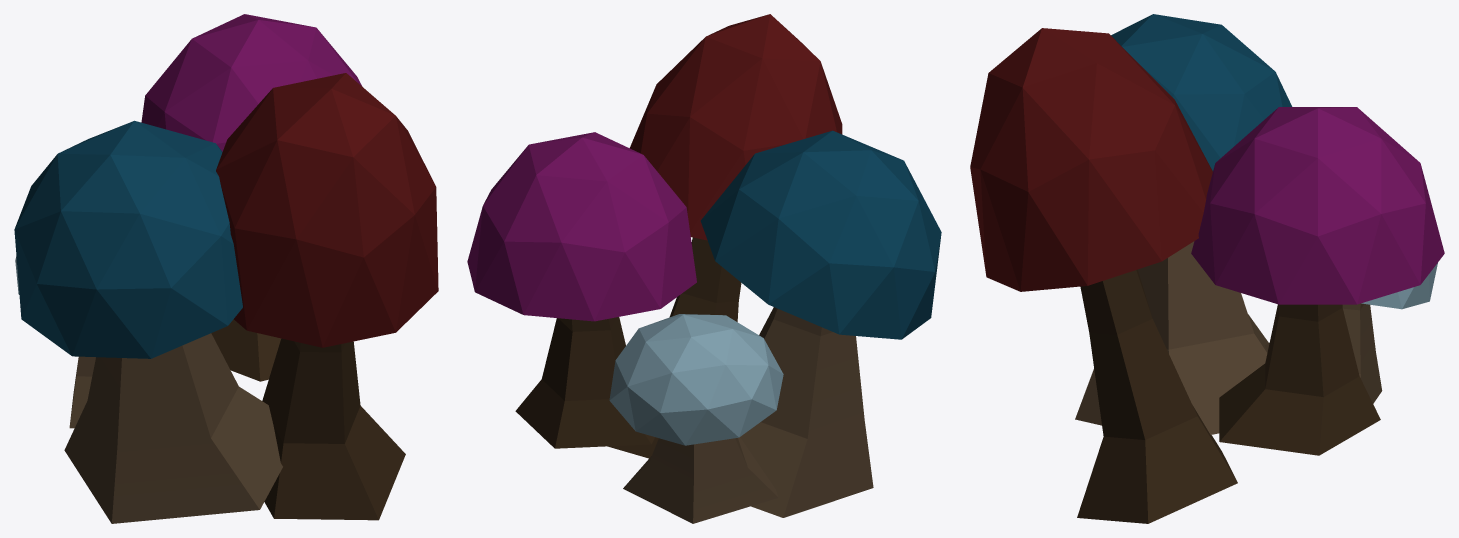
File: Mushrooms4.glb
3 views of the same model, side by side, from view 1: azimuth 30°, elevation 25°; view 2: azimuth 150°, elevation 25°; view 3: azimuth 270°, elevation 25° (orthographic). The views are drawn at different scales.
Parts seen in each view (by area): view 1: Mushroom_5, Mushroom_3, Mushroom_16, Mushroom_8; view 2: Mushroom_5, Mushroom_16, Mushroom_3, Mushroom_8; view 3: Mushroom_3, Mushroom_16, Mushroom_5, Mushroom_8.
Part boxes in pixels (x1,y1,x2,y2): Mushroom_5: [14, 120, 282, 523]; Mushroom_3: [216, 73, 438, 520]; Mushroom_16: [141, 14, 362, 381]; Mushroom_8: [15, 256, 95, 428]; Mushroom_5: [700, 130, 941, 517]; Mushroom_16: [467, 132, 696, 448]; Mushroom_3: [607, 14, 842, 458]; Mushroom_8: [609, 314, 783, 523]; Mushroom_3: [970, 28, 1237, 523]; Mushroom_16: [1191, 107, 1444, 455]; Mushroom_5: [1075, 14, 1292, 434]; Mushroom_8: [1264, 263, 1437, 403].
Bounding box in the file's own units: 0.1582 × 0.1709 × 0.1604.
Materials: 1 (1 with a texture image).
